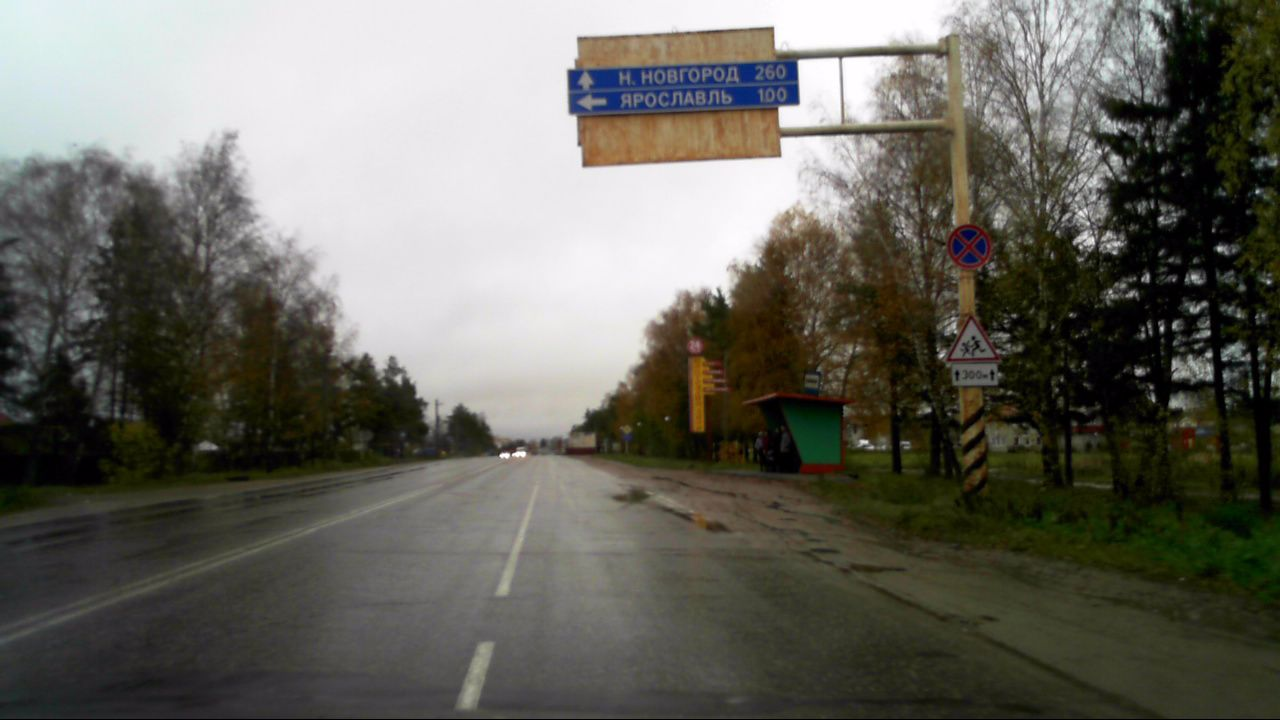No Parking: (945, 223, 992, 270)
